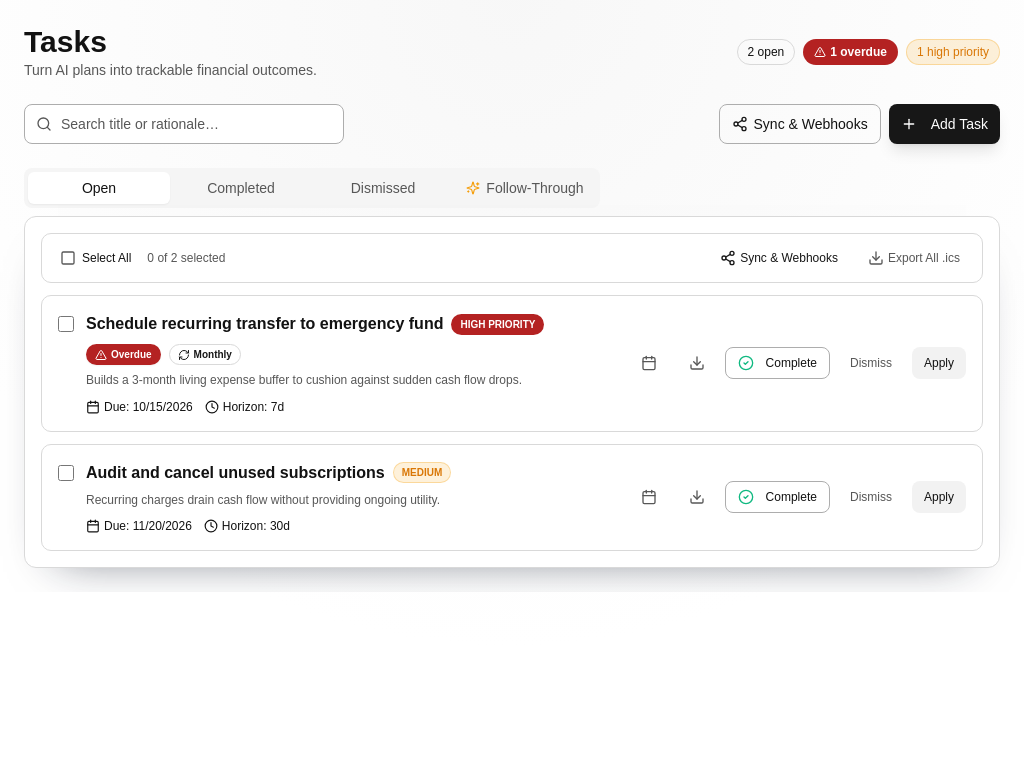
TasksPage › updates the open detail sheet after a confirmed completion
The image size is (1024, 768).
Click the button with aria-label "View task: Schedule recurring transfer to emergency fund".
click(265, 324)  # box [86,312,613,414]
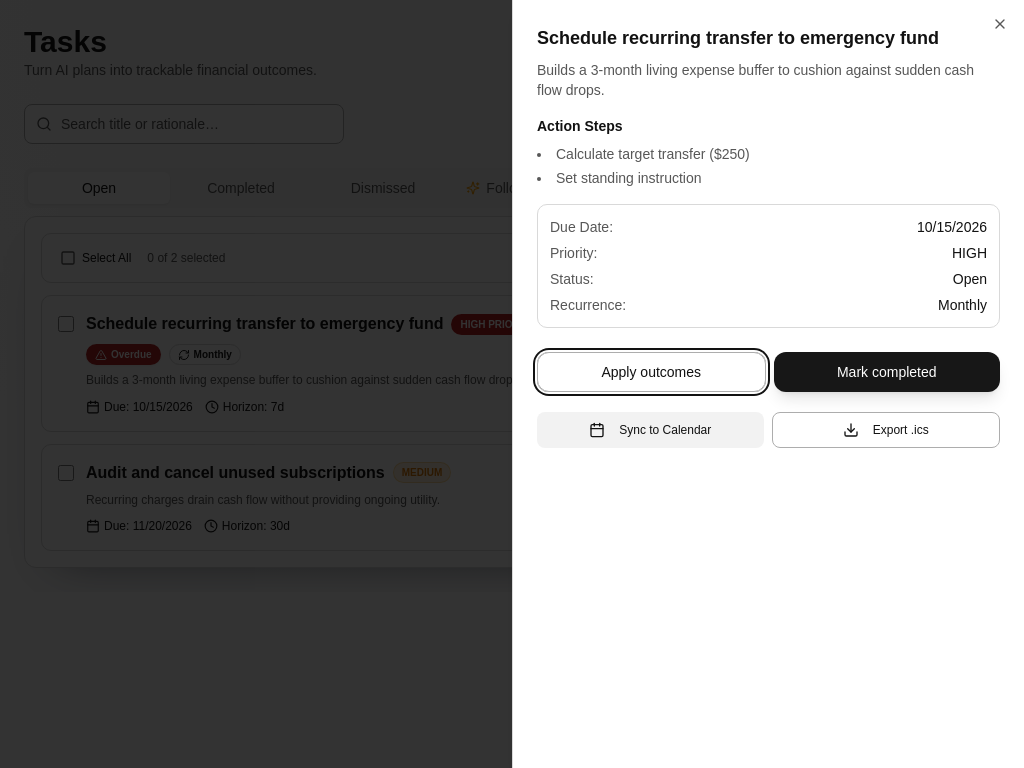
Click the button "Mark completed".
click(887, 372)  # box [774,352,1000,392]
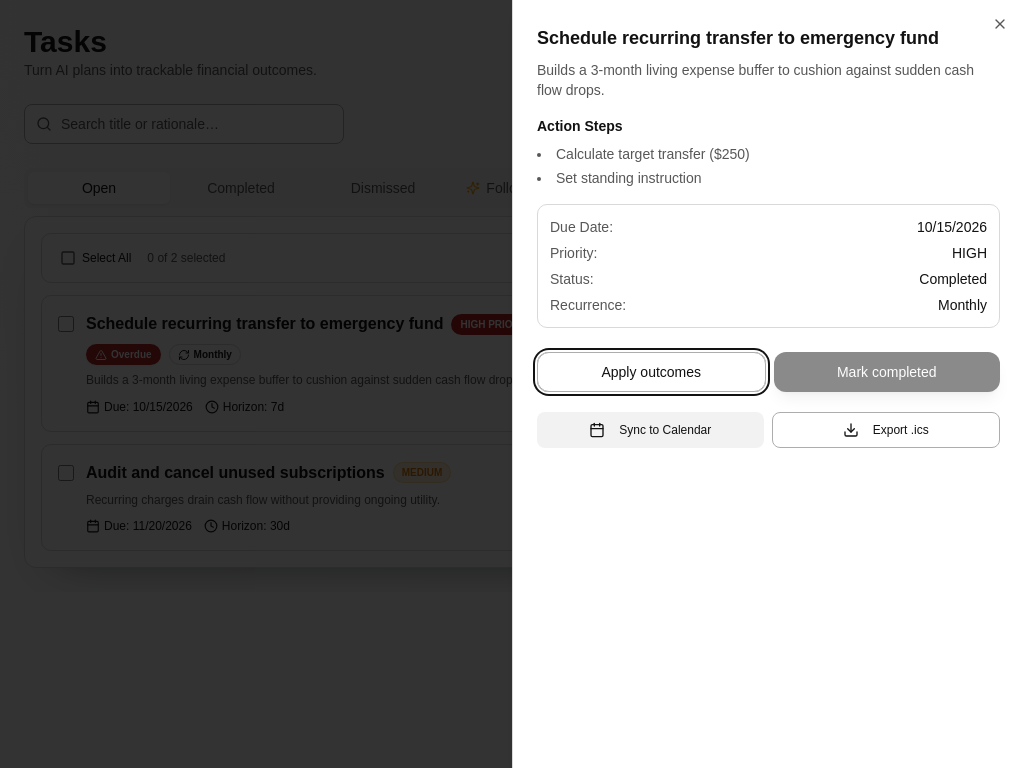
Expected: the text "completed" is shown, [919,269,987,289]
Expected: the button "Mark completed" is disabled, [774,352,1000,392]
